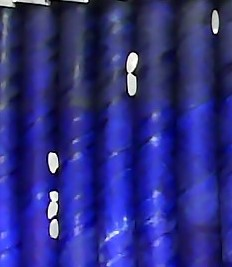broken_grain: (48, 188, 61, 203)
complete_grain: (45, 150, 61, 175), (125, 50, 139, 73), (125, 73, 138, 97), (48, 218, 61, 240), (211, 8, 221, 36), (47, 202, 60, 221)
